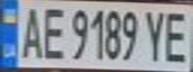1: (87, 6, 106, 60)
8: (103, 6, 124, 61)
9: (66, 4, 90, 61), (118, 7, 142, 61)
A: (15, 1, 45, 60)
E: (160, 7, 193, 64), (39, 2, 69, 61)
Y: (142, 7, 169, 63)
